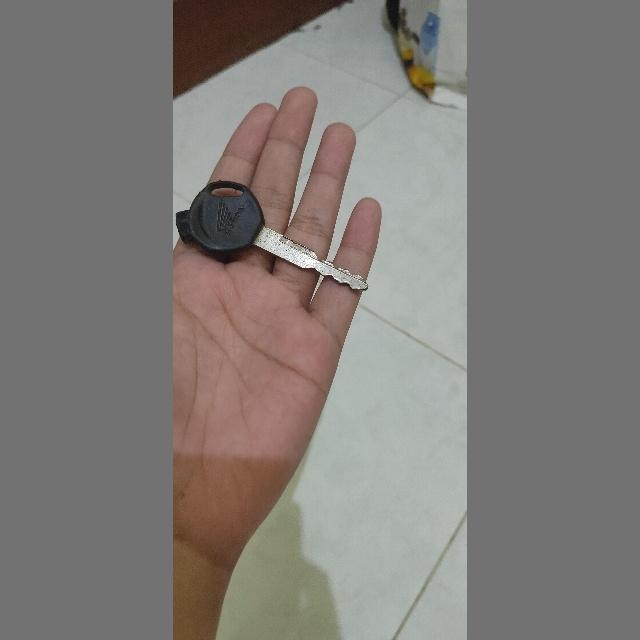Keys: (173, 174, 374, 300)
